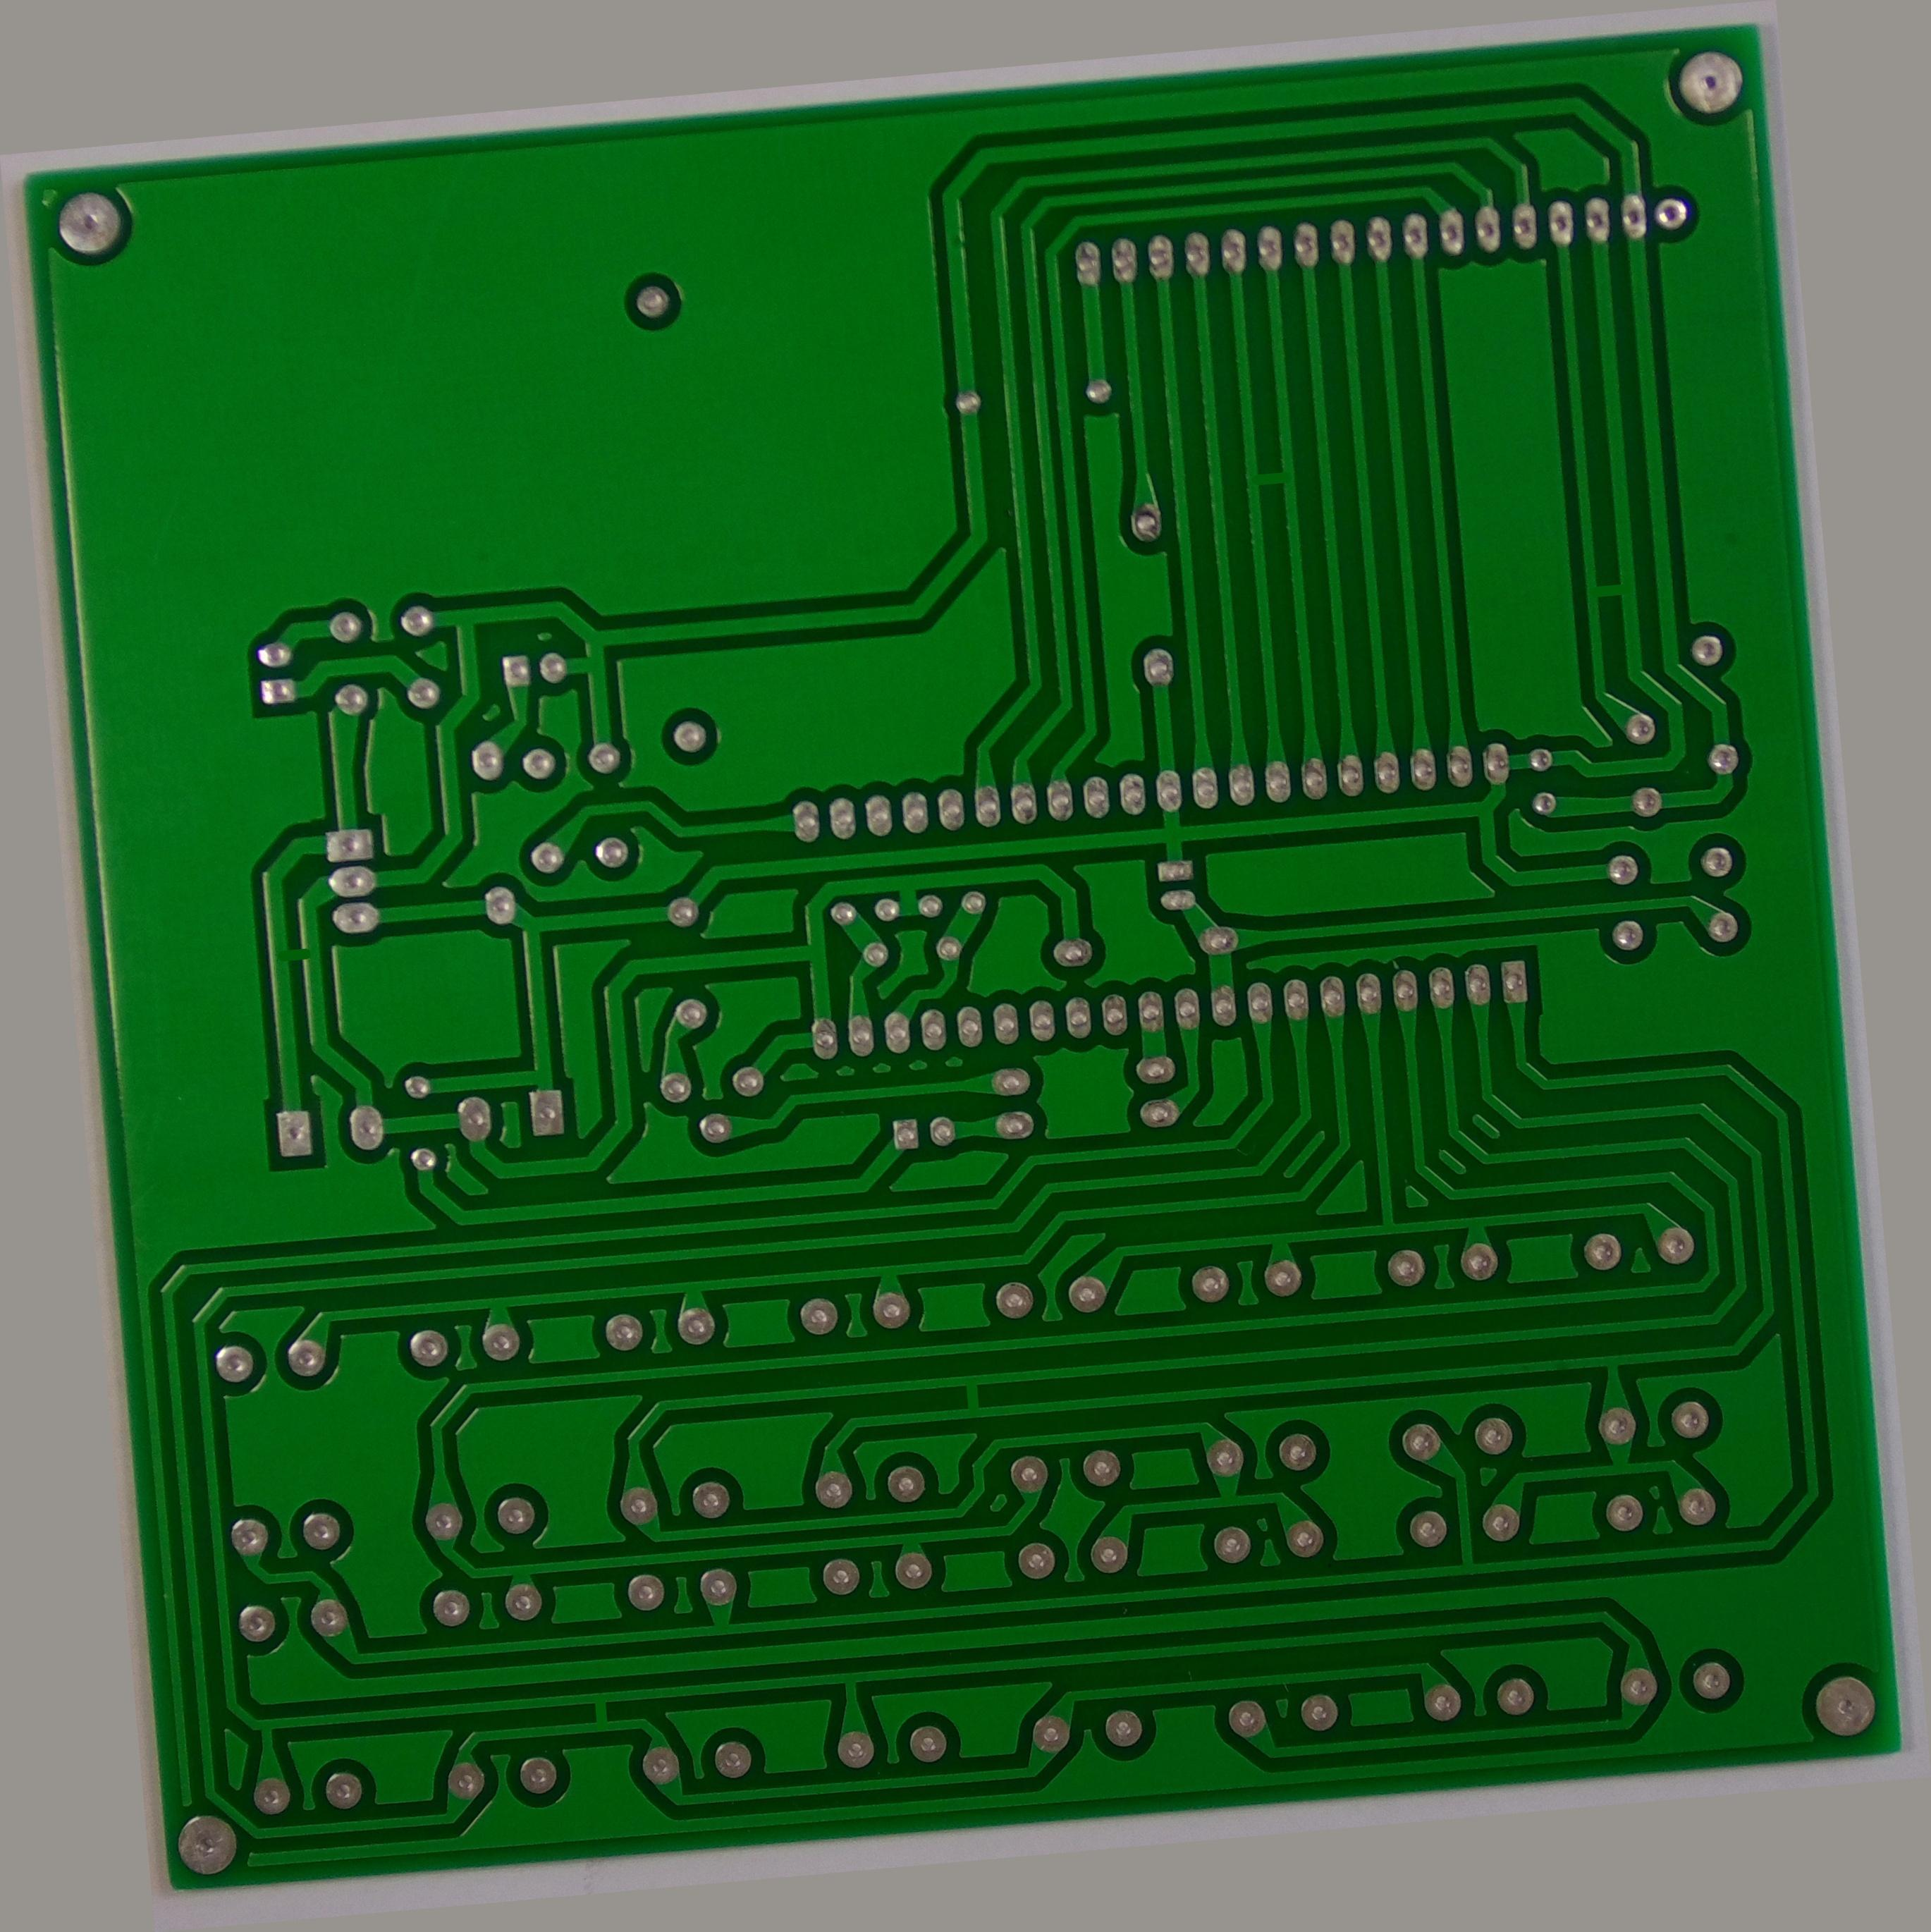short: (202, 865, 279, 924), (469, 1707, 530, 1764), (1659, 598, 1729, 648), (1307, 446, 1370, 490), (912, 1399, 957, 1461)
